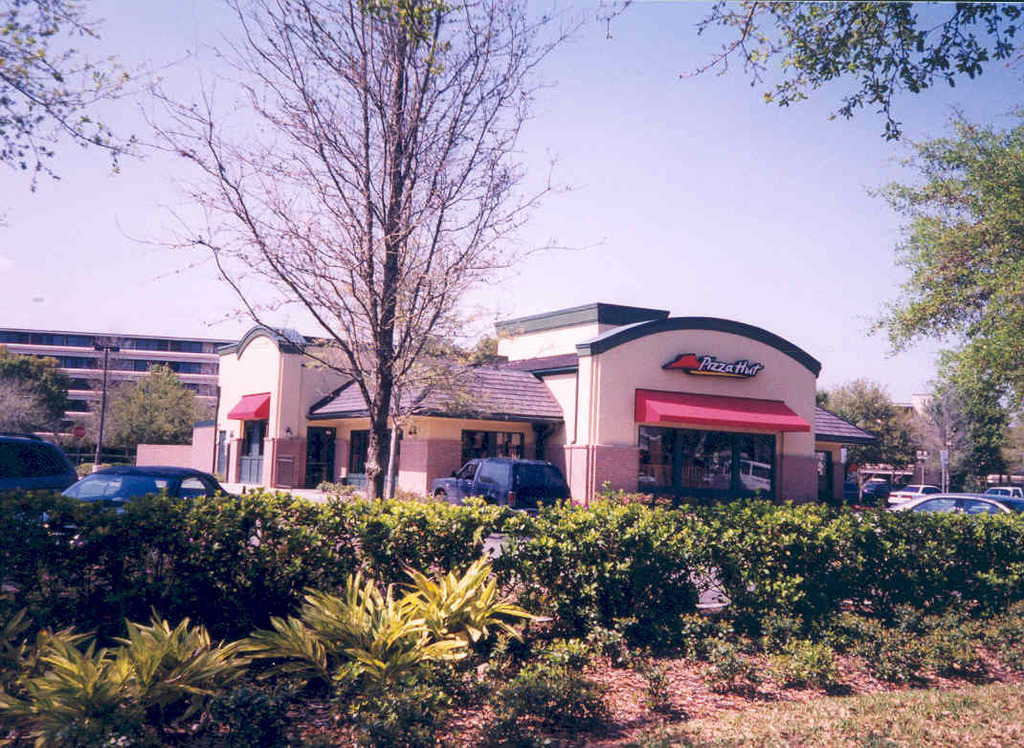Tree: (196, 19, 549, 532), (855, 95, 1023, 487), (673, 0, 1023, 148), (0, 0, 195, 198), (810, 361, 944, 492), (91, 358, 221, 453), (0, 340, 71, 434)
